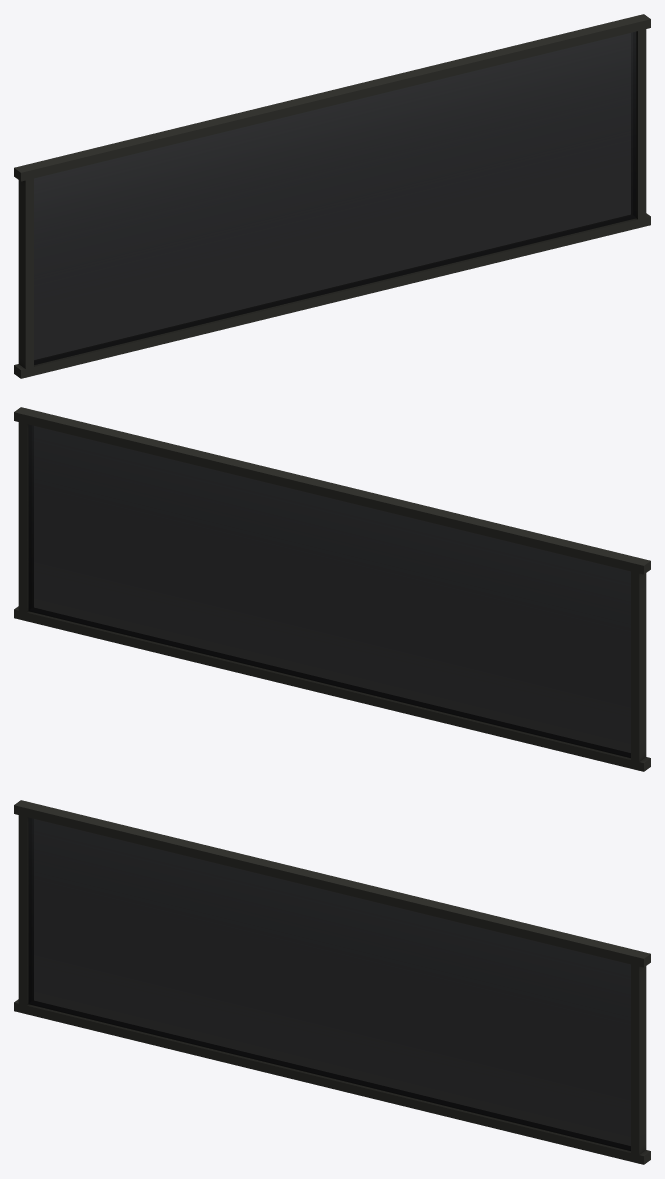
Rendered from glass-gate-single.glb.
3 views of the same model, one above another, from view 1: azimuth 30°, elevation 25°; view 2: azimuth 150°, elevation 25°; view 3: azimuth 330°, elevation 25° (orthographic).
Parts seen in each view (by area): view 1: Glass, Frame, Gasket; view 2: Glass, Frame, Gasket; view 3: Glass, Frame, Gasket.
Boxes of the visible parts, x1=… form: Glass: x1=34, y1=31, x2=636, y2=364; Frame: x1=14, y1=14, x2=650, y2=378; Gasket: x1=34, y1=215, x2=635, y2=364; Glass: x1=28, y1=424, x2=630, y2=757; Frame: x1=14, y1=407, x2=650, y2=771; Gasket: x1=29, y1=608, x2=630, y2=757; Glass: x1=28, y1=817, x2=630, y2=1150; Frame: x1=14, y1=800, x2=650, y2=1164; Gasket: x1=29, y1=1001, x2=630, y2=1150.
Bounding box in the file's own units: 4.16 × 1.3 × 0.08.
3 materials, 2 textured.
